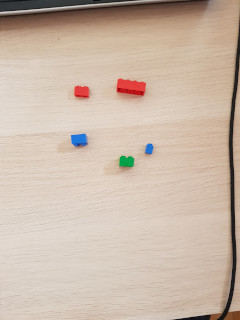1x1 blue: (144, 143, 154, 155)
1x2 red: (74, 85, 90, 99)
2x2 blue: (71, 134, 88, 147)
2x2 green: (118, 155, 134, 167)
2x4 red: (117, 77, 147, 97)
